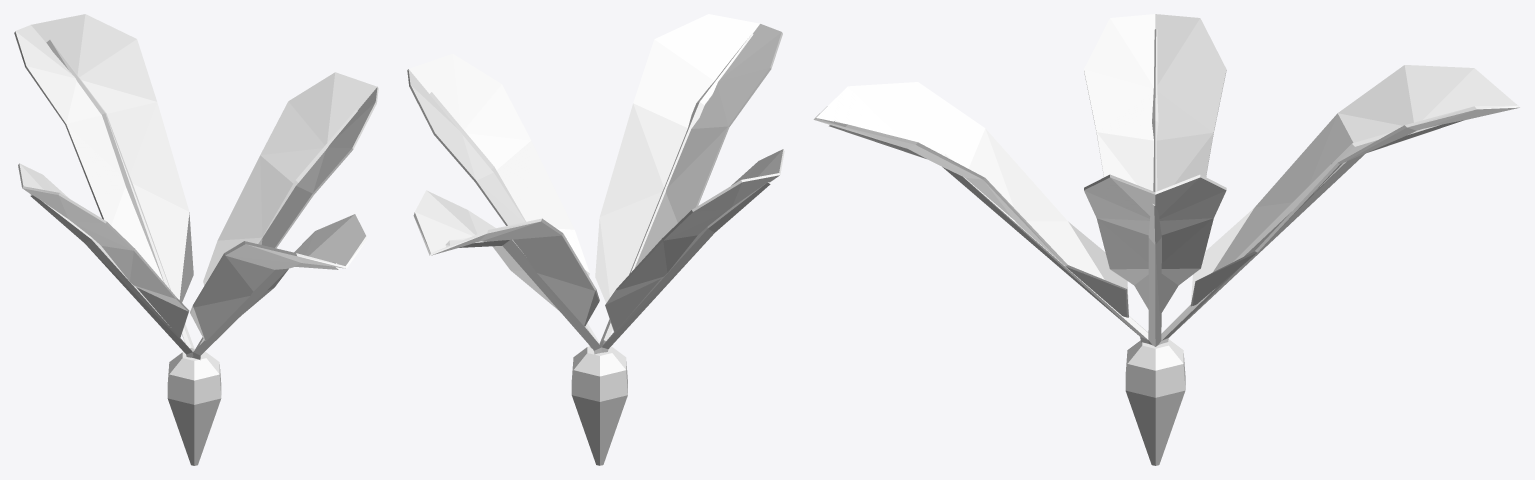
The model's file is Crop_Beetroot_STAGE_2_01.glb.
3 views of the same model, side by side, from view 1: azimuth 30°, elevation 25°; view 2: azimuth 150°, elevation 25°; view 3: azimuth 270°, elevation 25° (orthographic). The views are drawn at different scales.
Parts seen in each view (by area): view 1: Crop_Beetroot_STAGE_2_01; view 2: Crop_Beetroot_STAGE_2_01; view 3: Crop_Beetroot_STAGE_2_01.
Boxes of the visible parts, x1,y1,x2,y2 form: Crop_Beetroot_STAGE_2_01: (14,14,378,465); Crop_Beetroot_STAGE_2_01: (407,14,784,465); Crop_Beetroot_STAGE_2_01: (813,14,1520,465).
Bounding box in the file's own units: 0.3456 × 0.3144 × 0.5321.
Materials: 1 (1 with a texture image).
